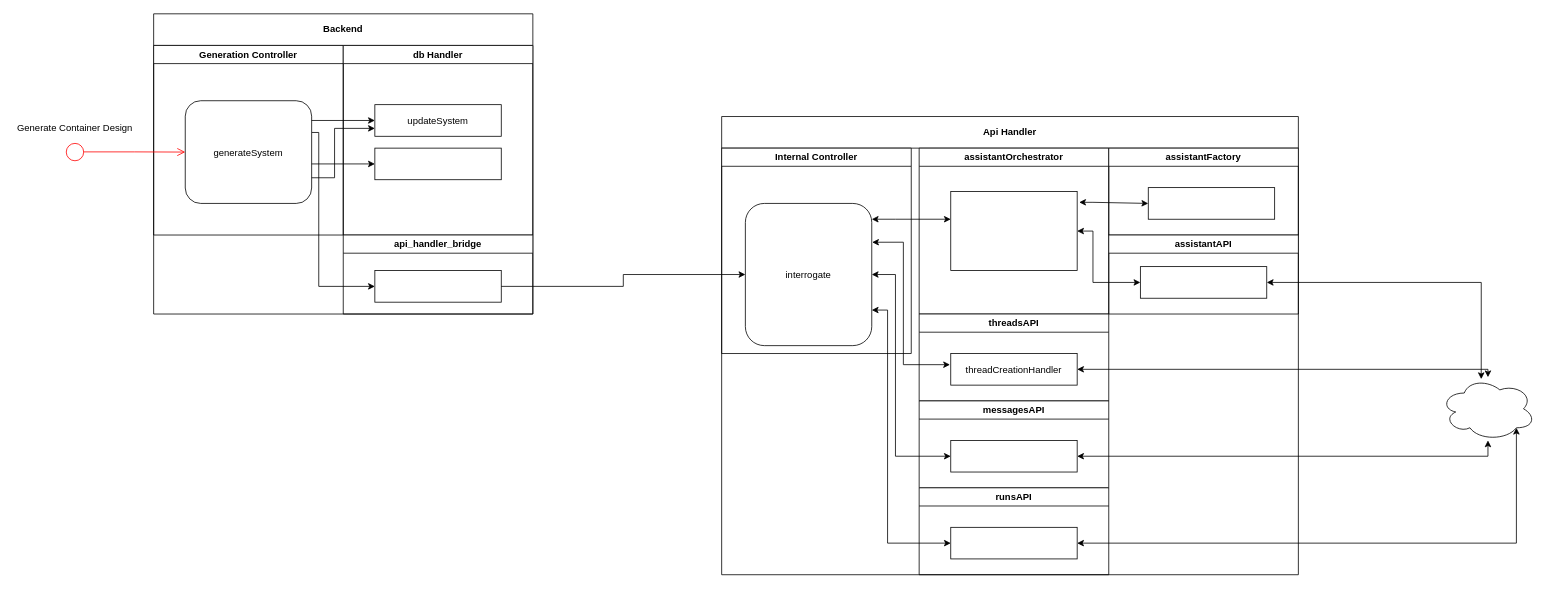
This 1549x589 diagram has some shape labels left out. The shapes that lost their labels are listed below. From the top down, each one's centre as x and y in pixels, then its label:
pixel 437 163: updateSystemStatus
pixel 1211 203: set_assets
pixel 1013 231: assistantCreation
pixel 437 286: assistant call
pixel 1203 282: creationHandler
pixel 1487 408: OpenAI API
pixel 1013 456: messageCreationHandler
pixel 1013 543: runCreationHandler
